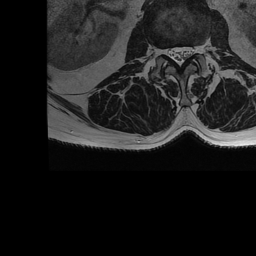CCS_normal: (175, 37, 183, 73)
LFS_normal: (192, 37, 201, 60)
LLS_normal: (184, 37, 192, 64)
RFS_stenosis: (159, 38, 167, 61)
RLS_normal: (167, 38, 175, 64)
